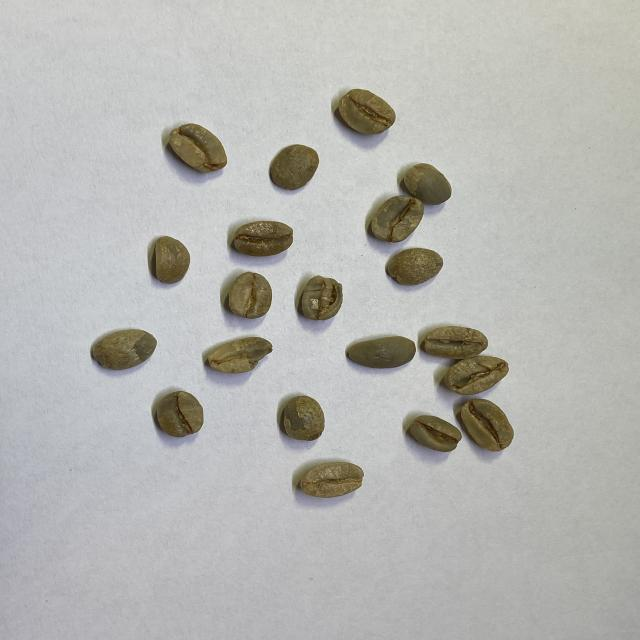bad: (206, 336, 274, 374), (443, 356, 510, 393), (300, 276, 342, 322)
good: (167, 123, 228, 175), (461, 398, 515, 452), (89, 328, 158, 370), (338, 87, 397, 136), (370, 195, 424, 243), (154, 390, 207, 438), (346, 336, 416, 370), (225, 271, 273, 320), (298, 462, 365, 497), (270, 144, 319, 191), (384, 248, 444, 286), (402, 162, 452, 206), (232, 221, 294, 256), (408, 414, 462, 454), (280, 394, 325, 441), (423, 326, 487, 358), (153, 236, 191, 285)
